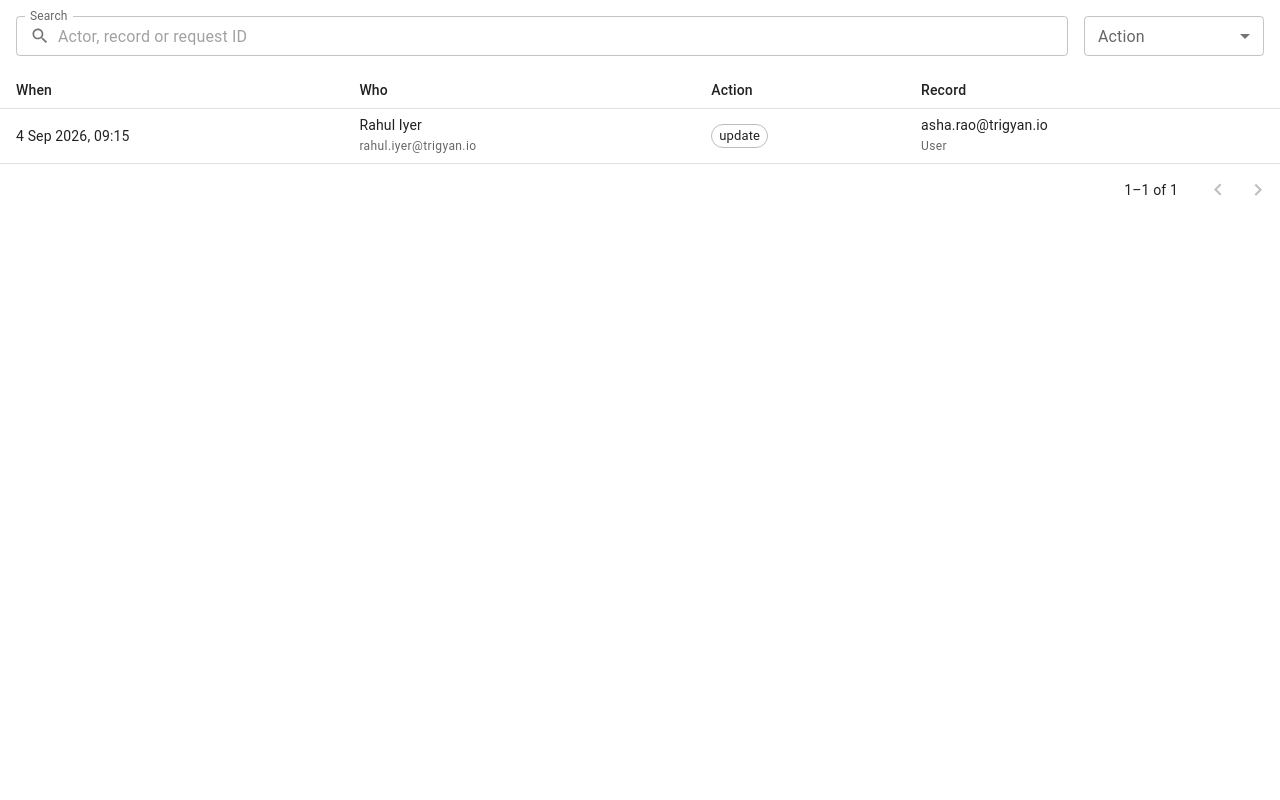
Test: AuditLogTab › opens the whole entry when a row is clicked
This screenshot has width=1280, height=800.
Click the text "Rahul Iyer" at (391, 125), box [359, 117, 422, 133]
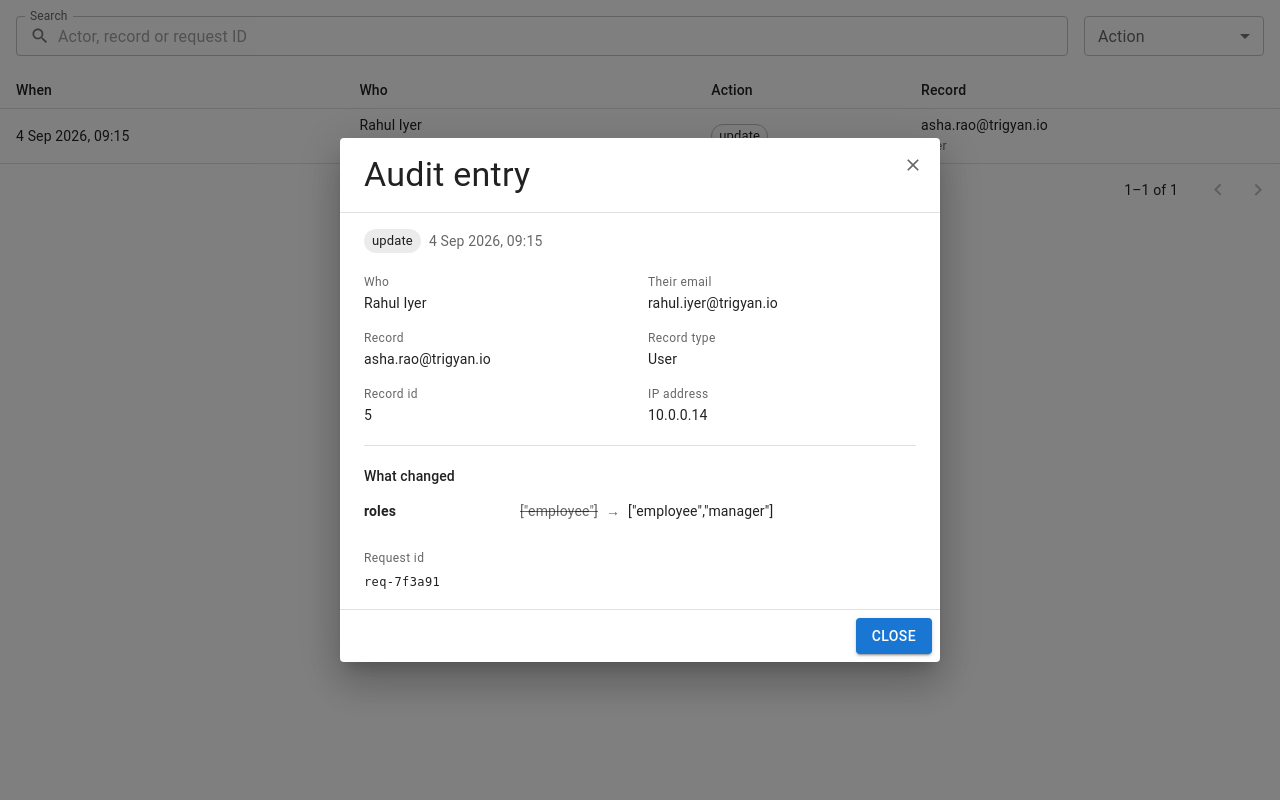
Now the text "10.0.0.14" is shown, box [648, 407, 708, 423]
Now the text "req-7f3a91" is shown, box [364, 574, 440, 588]
Now the text "rahul.iyer@trigyan.io" is shown, box [648, 295, 778, 311]
